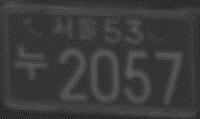0: (89, 48, 120, 104)
2: (58, 46, 87, 103)
3: (125, 17, 144, 45)
5: (123, 49, 152, 105), (102, 17, 124, 44)
7: (154, 50, 184, 106)
누: (13, 44, 48, 82)
서울_O: (52, 14, 97, 42)
